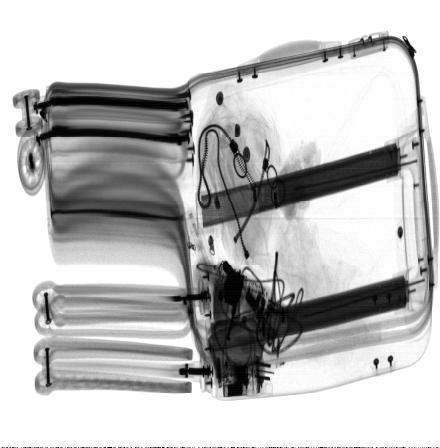Gun: (222, 262, 246, 344)
